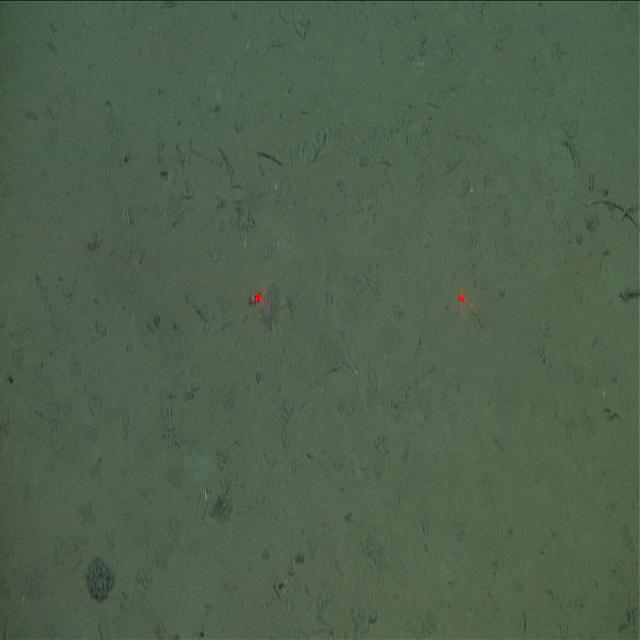Brittle Star: (83, 554, 116, 605)
